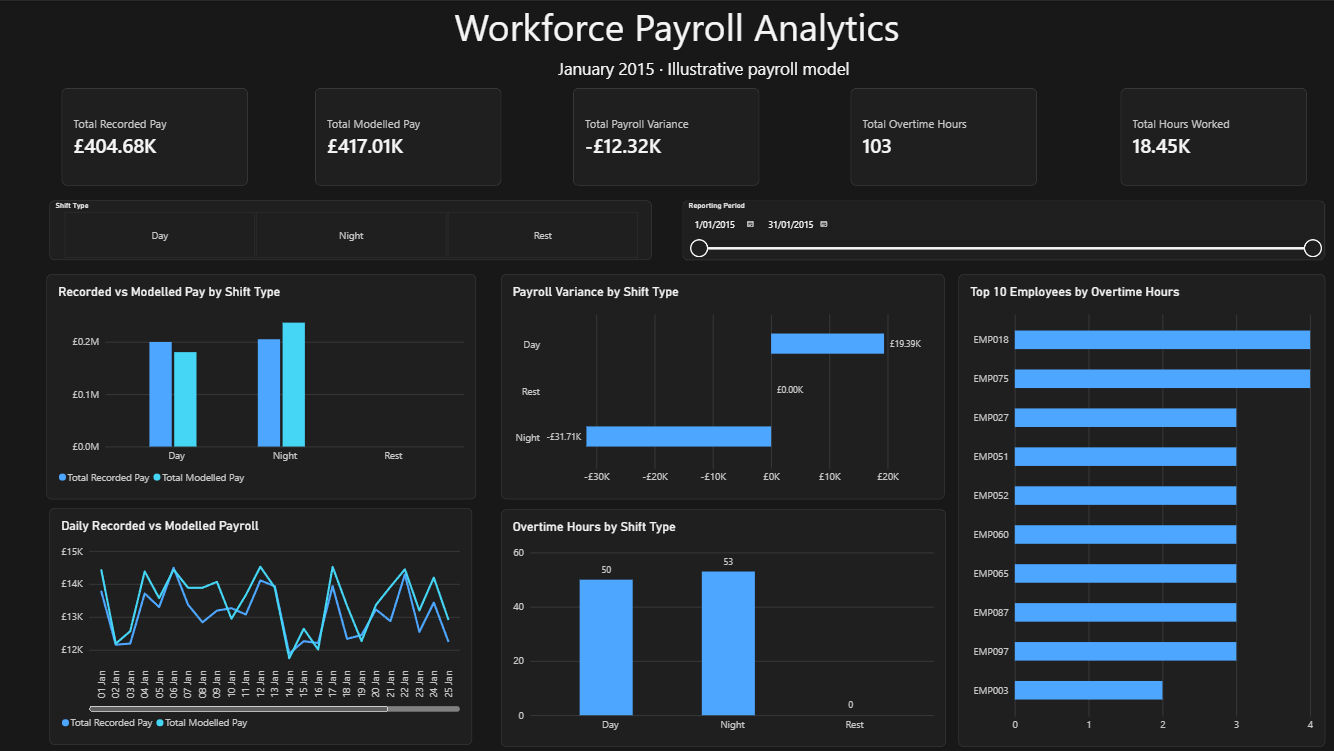

What the dashboard file says about the page in this screenshot:
{"tool":"powerbi","page":{"name":"Workforce Analytics Dashboard","canvas":[1920,1080],"ordinal":0},"visuals":[{"type":"cardVisual","fields":{"Data":["public vw_payroll_detail.Total Recorded Pay"]},"box":[92.5,125,267.5,140],"z":0},{"type":"cardVisual","fields":{"Data":["public vw_payroll_detail.Total Modelled Pay"]},"box":[455,125,267.5,140],"z":1000},{"type":"cardVisual","fields":{"Data":["public vw_payroll_detail.Total Payroll Variance"]},"box":[825,125,267.5,140],"z":2000},{"type":"cardVisual","fields":{"Data":["public vw_payroll_detail.Total Overtime Hours"]},"box":[1222.5,125,267.5,140],"z":3000},{"type":"cardVisual","fields":{"Data":["public vw_payroll_detail.Total Hours Worked"]},"box":[1610,125,267.5,140],"z":4000},{"type":"clusteredColumnChart","title":"Recorded vs Modelled Pay by Shift Type","fields":{"Category":["public vw_payroll_detail.shift_type"],"Y":["public vw_payroll_detail.Total Recorded Pay","public vw_payroll_detail.Total Modelled Pay"]},"box":[70,390,615,322.5],"z":5000},{"type":"clusteredBarChart","title":"Payroll Variance by Shift Type","fields":{"Category":["public vw_payroll_detail.shift_type"],"Y":["public vw_payroll_detail.Total Payroll Variance"]},"box":[722.5,390,635,322.5],"z":6000},{"type":"clusteredBarChart","title":"Top 10 Employees by Overtime Hours","fields":{"Category":["public vw_payroll_detail.employee_id"],"Y":["public vw_payroll_detail.Total Overtime Hours"]},"box":[1377.5,390,525,677.5],"z":7000},{"type":"clusteredColumnChart","title":"Overtime Hours by Shift Type","fields":{"Category":["public vw_payroll_detail.shift_type"],"Y":["public vw_payroll_detail.Total Overtime Hours"]},"box":[722.5,727.5,637.5,340],"z":8000},{"type":"lineChart","title":"Daily Recorded vs Modelled Payroll","fields":{"Category":["public vw_payroll_detail.Date Label"],"Y":["public vw_payroll_detail.Total Recorded Pay","public vw_payroll_detail.Total Modelled Pay"]},"box":[75.6,727.1,605.1,339.1],"z":9000},{"type":"slicer","fields":{"Values":["public vw_payroll_detail.shift_type"]},"box":[75,285,862.5,85],"z":10000},{"type":"slicer","fields":{"Values":["public vw_payroll_detail.shift_date"]},"box":[982.5,285,920,85],"z":11000},{"type":"textbox","box":[802.5,80,555,45],"z":12000},{"type":"textbox","box":[655,0,652.5,80],"z":13000}]}

Visuals, with their boxes in screenshot pixels (x1, y1, x2, y2), scaled from the page's 1920x1080 canvas onto the 1334x751 screenshot:
cardVisual - public vw_payroll_detail.Total Recorded Pay: bbox(64, 87, 250, 184)
cardVisual - public vw_payroll_detail.Total Modelled Pay: bbox(316, 87, 502, 184)
cardVisual - public vw_payroll_detail.Total Payroll Variance: bbox(573, 87, 759, 184)
cardVisual - public vw_payroll_detail.Total Overtime Hours: bbox(849, 87, 1035, 184)
cardVisual - public vw_payroll_detail.Total Hours Worked: bbox(1119, 87, 1304, 184)
"Recorded vs Modelled Pay by Shift Type" clusteredColumnChart: bbox(49, 271, 476, 495)
"Payroll Variance by Shift Type" clusteredBarChart: bbox(502, 271, 943, 495)
"Top 10 Employees by Overtime Hours" clusteredBarChart: bbox(957, 271, 1322, 742)
"Overtime Hours by Shift Type" clusteredColumnChart: bbox(502, 506, 945, 742)
"Daily Recorded vs Modelled Payroll" lineChart: bbox(53, 506, 473, 741)
slicer - public vw_payroll_detail.shift_type: bbox(52, 198, 651, 257)
slicer - public vw_payroll_detail.shift_date: bbox(683, 198, 1322, 257)
textbox: bbox(558, 56, 943, 87)
textbox: bbox(455, 0, 908, 56)
